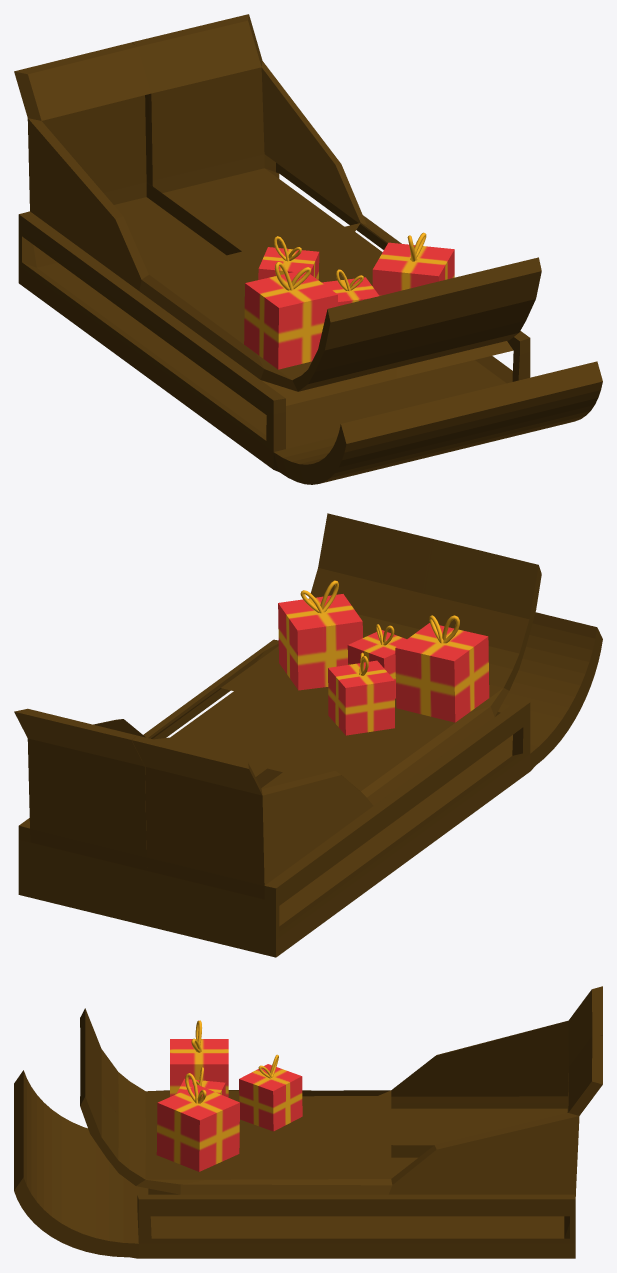
The model's file is sleigh.glb.
The picture shows the model from 3 angles, top to bottom: view 1: azimuth 30°, elevation 25°; view 2: azimuth 150°, elevation 25°; view 3: azimuth 270°, elevation 25°; orthographic projection. The views are drawn at different scales.
Visible parts, largest first — view 1: Cube; view 2: Cube; view 3: Cube.
Part boxes in pixels (box(x1,y1,x2,y2)): Cube: box(14, 14, 602, 484); Cube: box(14, 513, 602, 957); Cube: box(14, 986, 602, 1258).
Size of the model in its own units: 4.15 by 3.05 by 9.59.
Materials: 9 (9 with a texture image).
